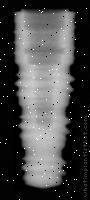DENTSPLY: (13, 10, 76, 190)
